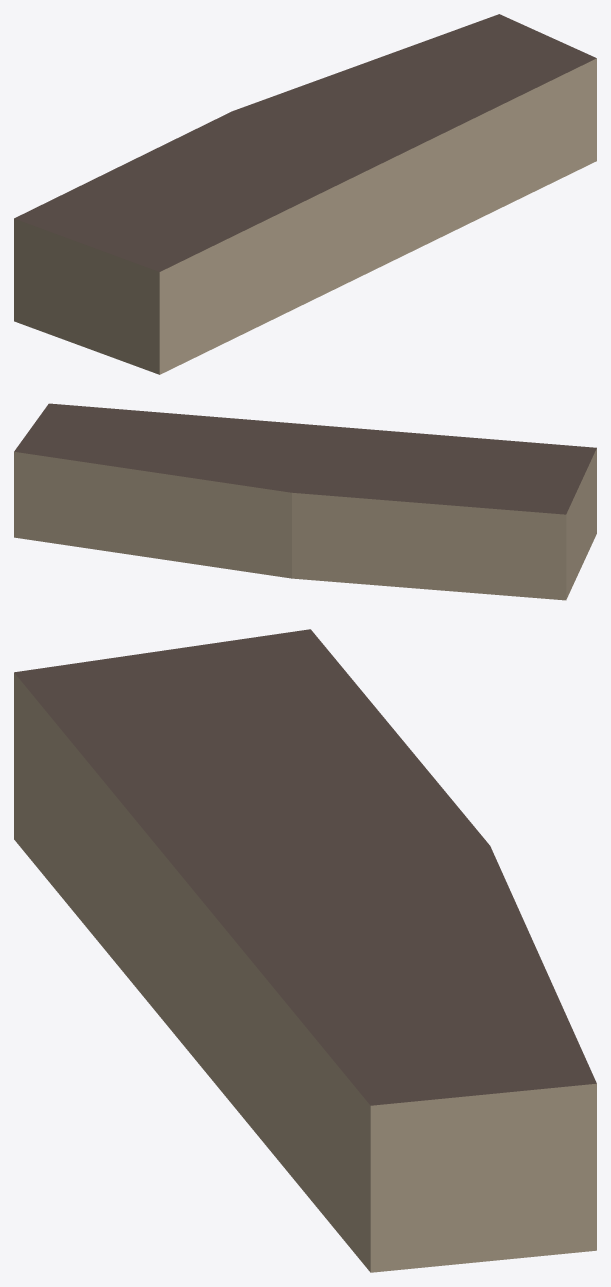
3 views of the same model, one above another, from view 1: azimuth 30°, elevation 25°; view 2: azimuth 150°, elevation 25°; view 3: azimuth 270°, elevation 25° (orthographic). The views are drawn at different scales.
Visible parts, largest first — view 1: HP-w859078895; view 2: HP-w859078895; view 3: HP-w859078895.
Boxes of the visible parts, bbox=[...] form: HP-w859078895: bbox=[14, 14, 596, 374]; HP-w859078895: bbox=[14, 403, 596, 600]; HP-w859078895: bbox=[14, 629, 596, 1272].
Bounding box in the file's own units: 55.07 × 9 × 28.47.
